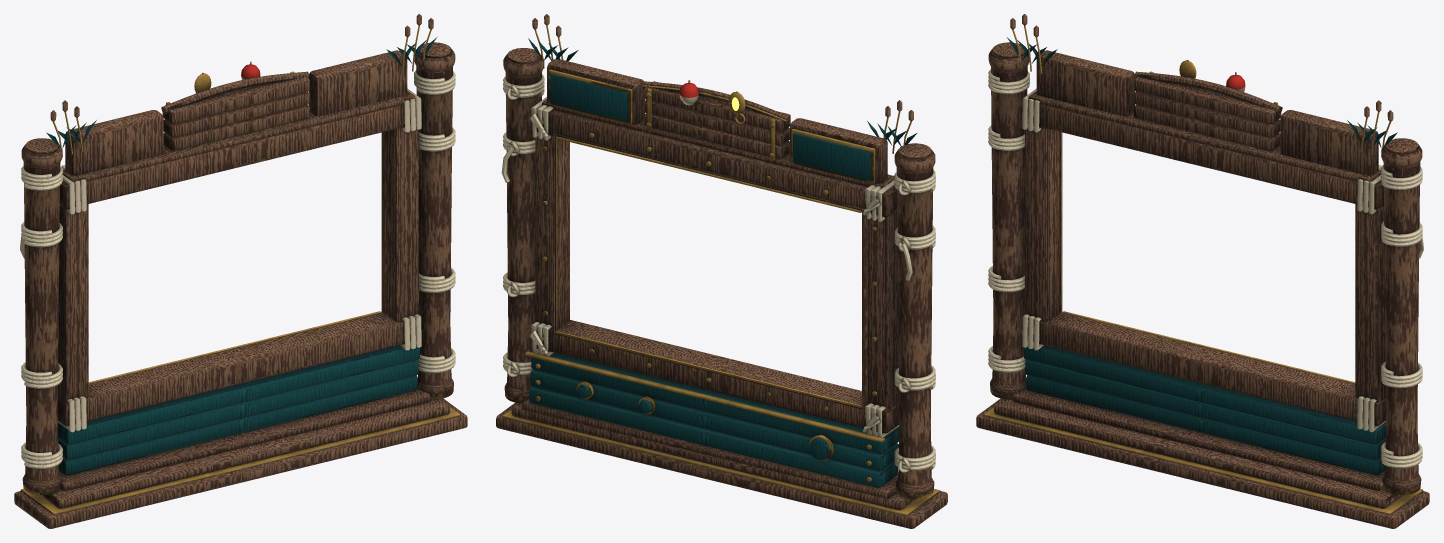
The picture shows the model from 3 angles, left to right: view 1: azimuth 30°, elevation 25°; view 2: azimuth 150°, elevation 25°; view 3: azimuth 330°, elevation 25°; orthographic projection.
Visible parts, largest first — view 1: Wet_dock_timber, Deep_teal_painted_planks, Rope_and_ivory_float_enamel, Weathered_brass; view 2: Wet_dock_timber, Deep_teal_painted_planks, Weathered_brass, Rope_and_ivory_float_enamel; view 3: Wet_dock_timber, Deep_teal_painted_planks, Rope_and_ivory_float_enamel, Weathered_brass.
Boxes of the visible parts, <box> form: Wet_dock_timber: <box>14,14,467,528</box>; Deep_teal_painted_planks: <box>46,37,436,475</box>; Rope_and_ivory_float_enamel: <box>20,70,455,468</box>; Weathered_brass: <box>20,25,460,514</box>; Wet_dock_timber: <box>496,14,947,528</box>; Deep_teal_painted_planks: <box>528,38,916,487</box>; Weathered_brass: <box>502,25,940,515</box>; Rope_and_ivory_float_enamel: <box>501,74,935,472</box>; Wet_dock_timber: <box>976,14,1429,528</box>; Deep_teal_painted_planks: <box>1007,37,1397,475</box>; Rope_and_ivory_float_enamel: <box>988,69,1423,468</box>; Weathered_brass: <box>983,25,1423,514</box>.
Size of the model in its own units: 9.68 by 8.84 by 1.51.
Materials: 6 (5 with a texture image).
